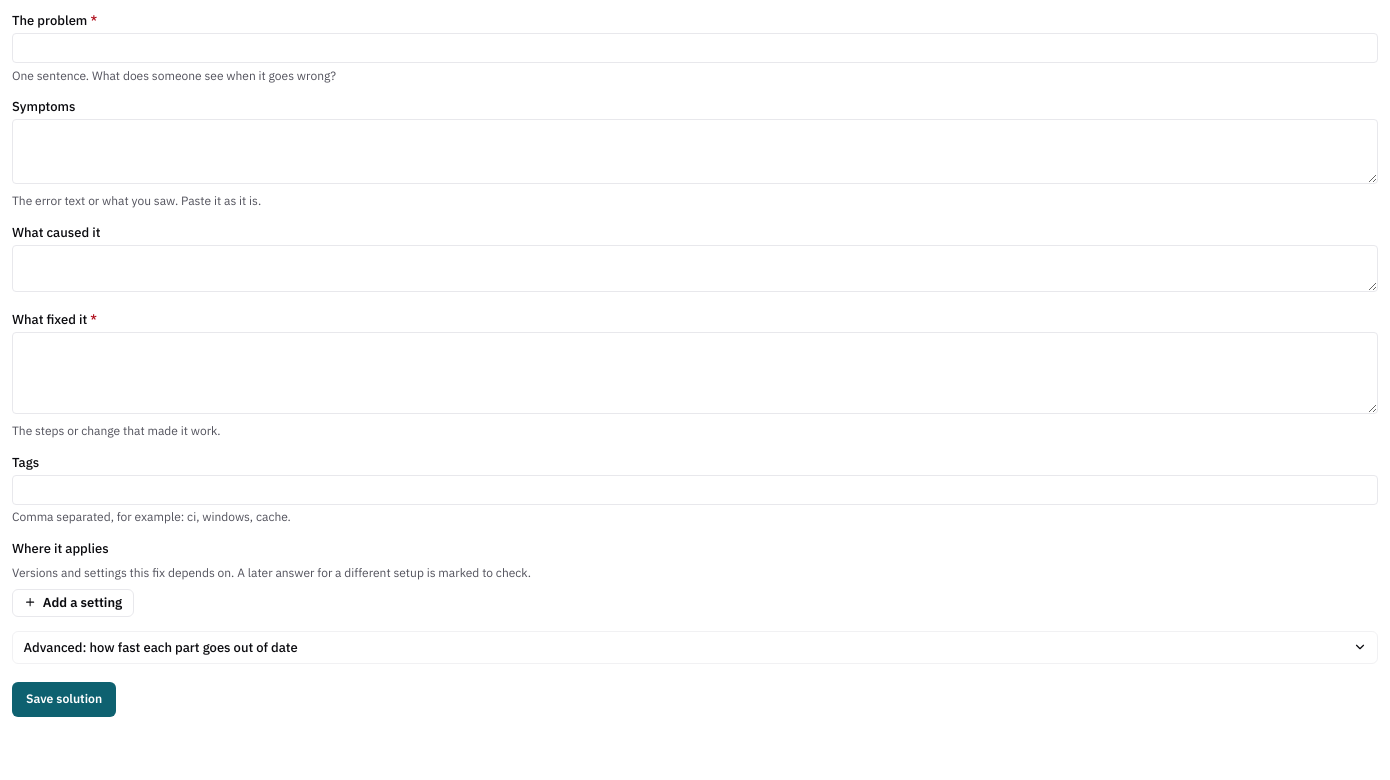
Scenario: SolutionForm › does not send while the problem and the fix are empty, and says why
Click the button "Save solution" at point(64, 699), box [12,682,116,716]
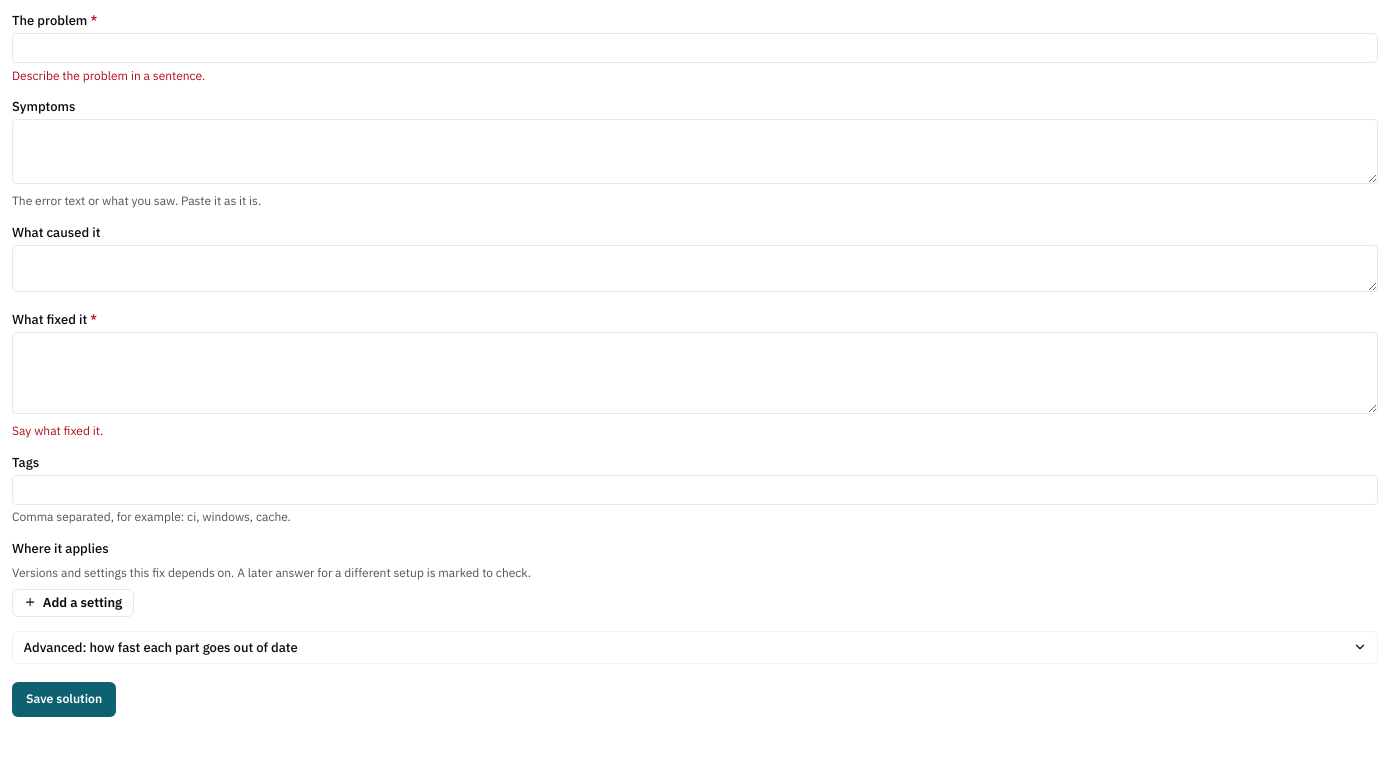
Now the text "Describe the problem in a sentence." is shown, box [12,68,205,82]
Now the text "Say what fixed it." is shown, box [12,423,103,438]
